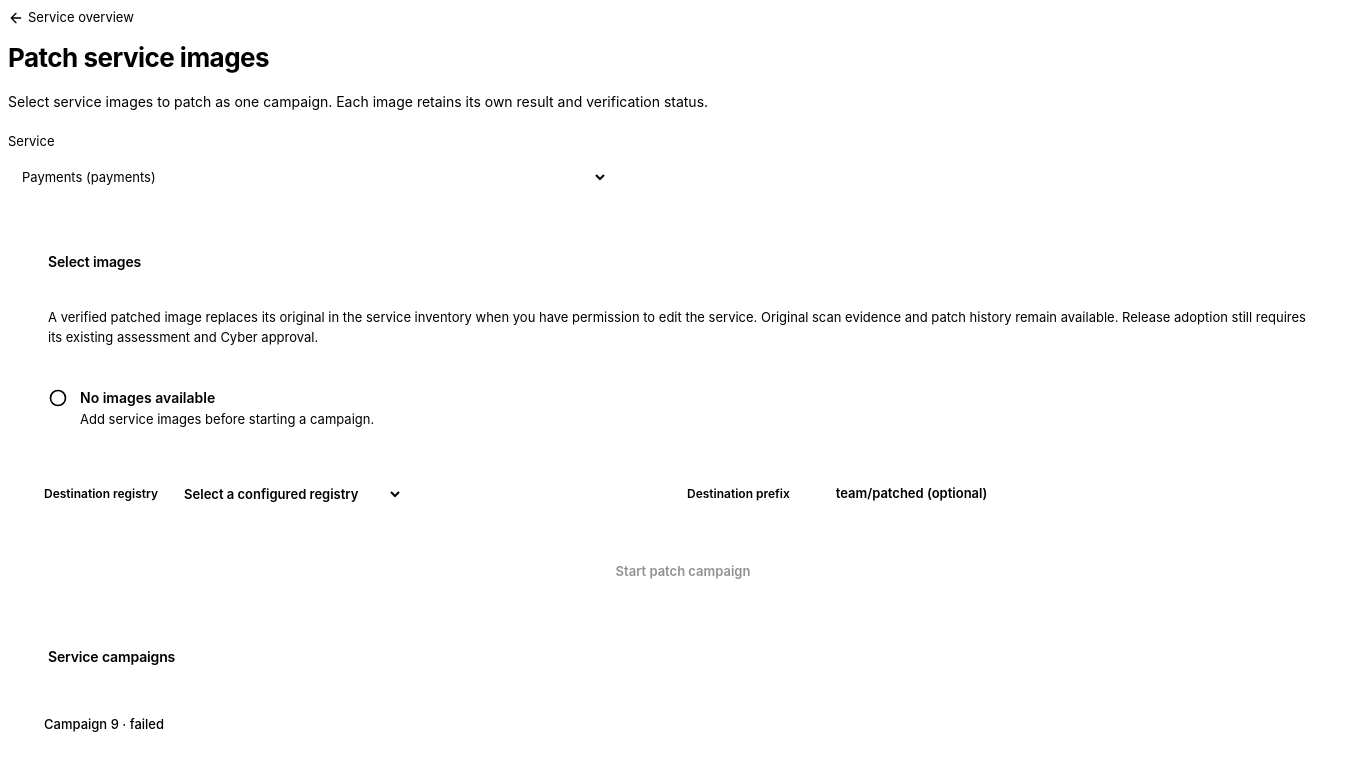
Test case: uses server capabilities for scoped cancellation and safe retry
The width and height of the screenshot is (1366, 768).
Click the button "Campaign 9 · failed" at (104, 725), box [28,707,180,743]
(page scrolled)
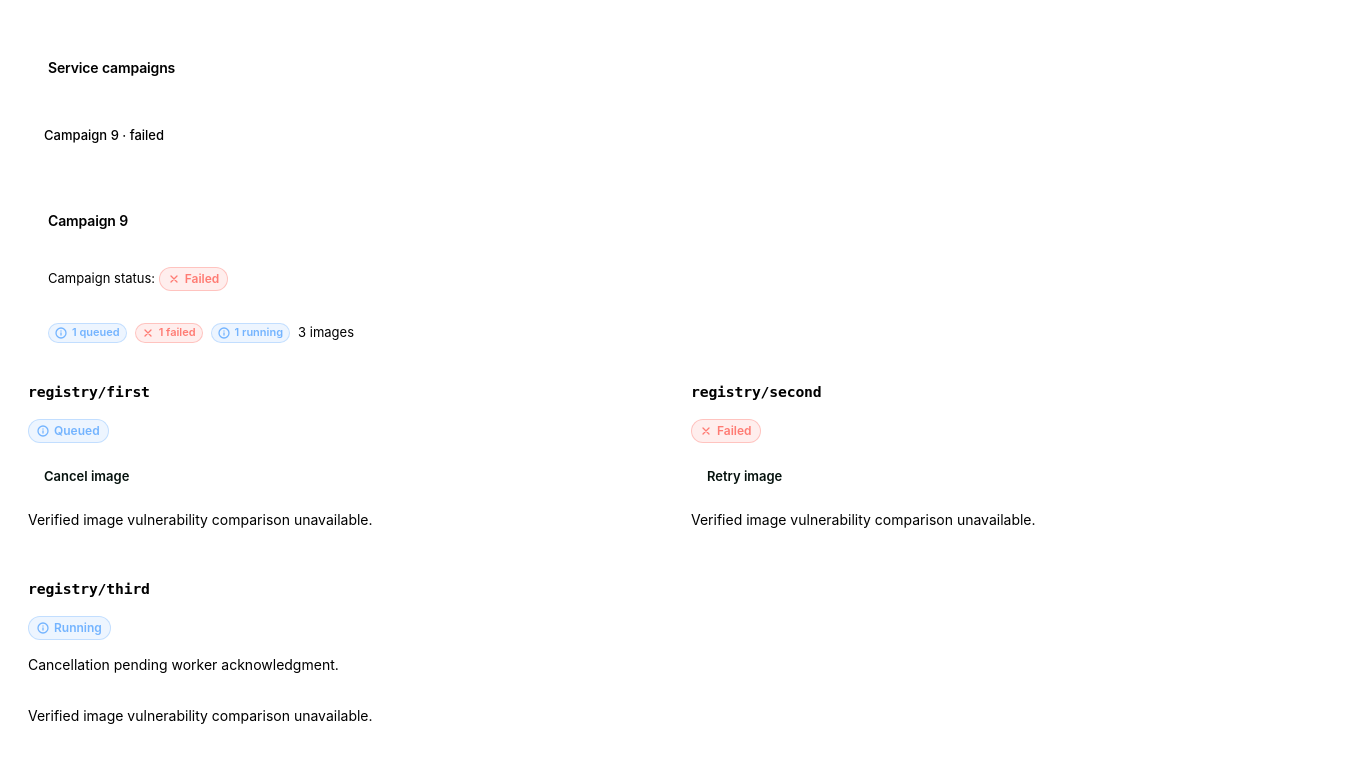
Click the button with aria-label "Cancel image registry/first" at (87, 477), box [28,459,145,495]
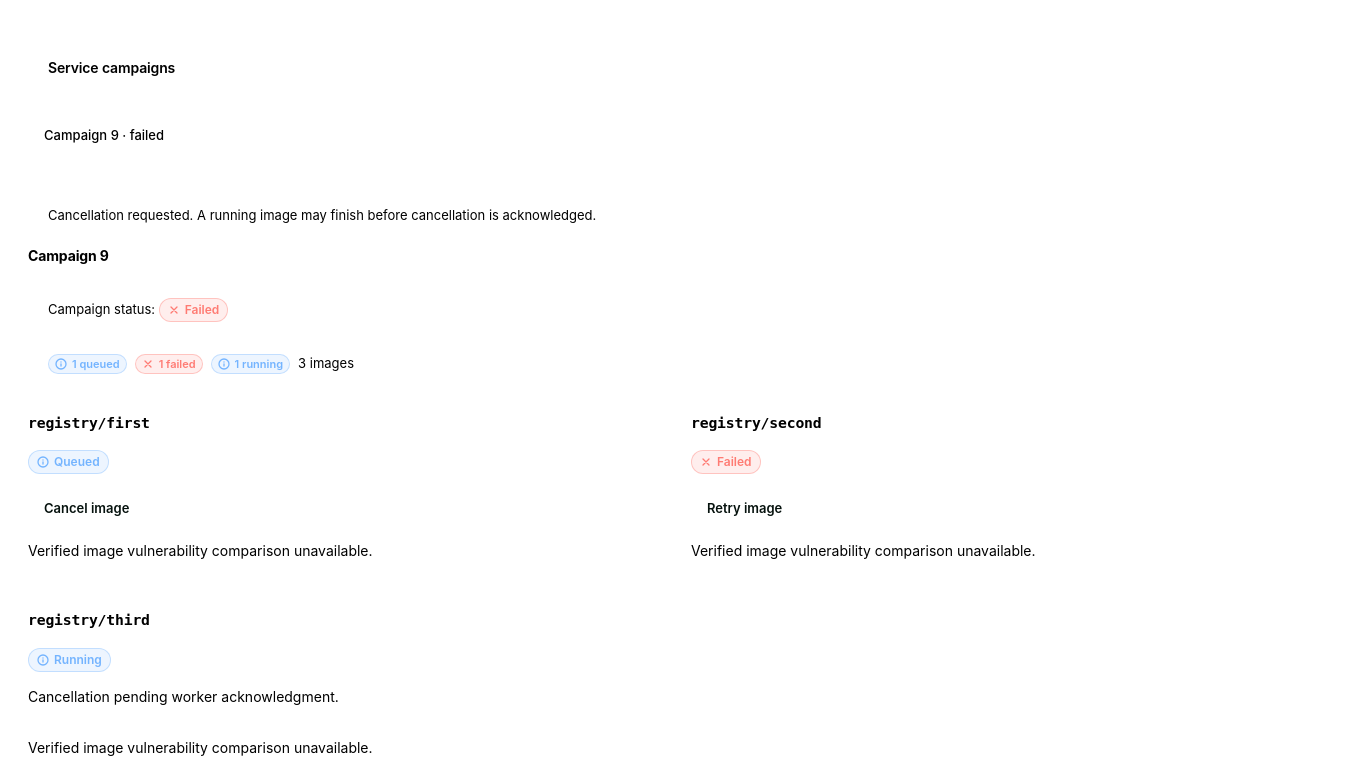
Check: the button with aria-label "Retry image registry/second" is shown
Check: the text "Cancellation requested" is shown, box [48,207,596,223]
Click the button with aria-label "Retry image registry/second" at (745, 508), box [691,490,798,526]
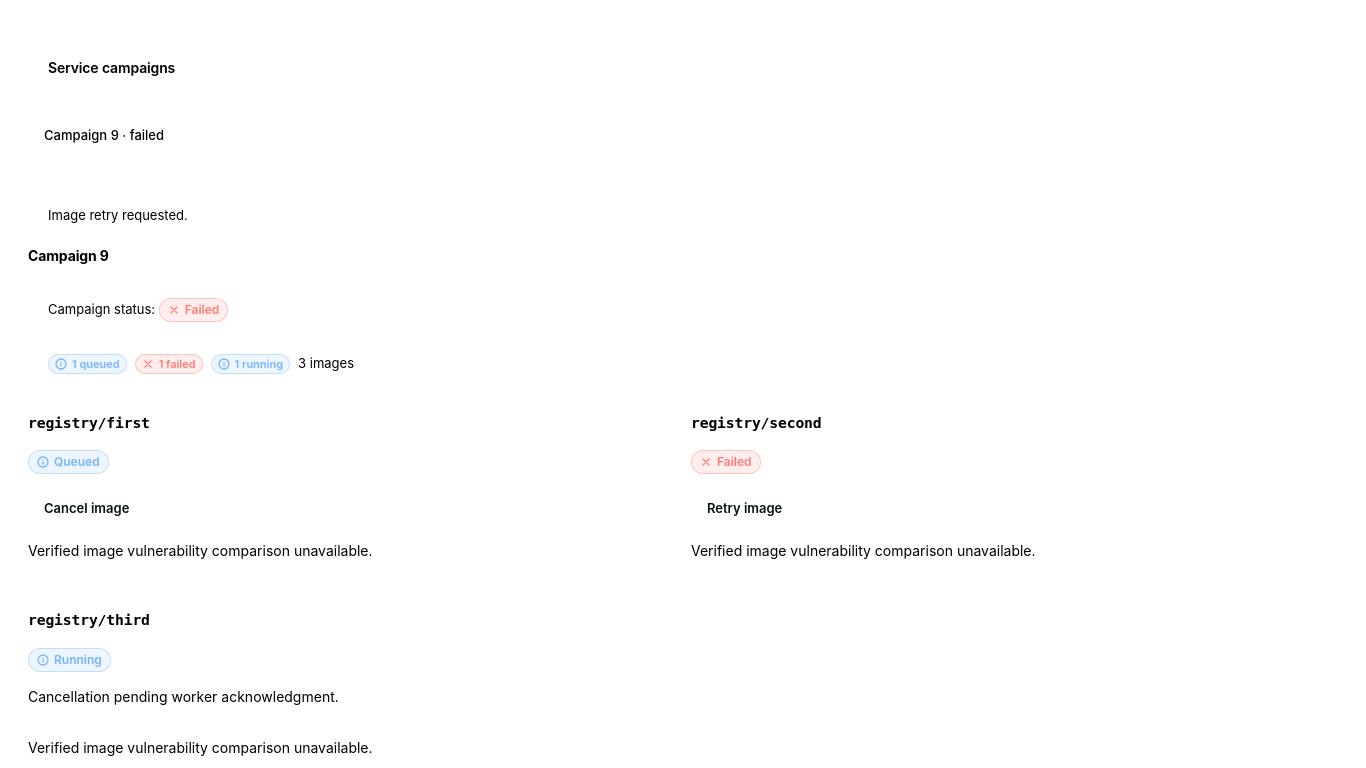
Check: the text "Cancellation pending worker acknowledgment." is shown, box [28,688,339,705]
Check: the text "Image retry requested." is shown, box [48,207,188,223]
